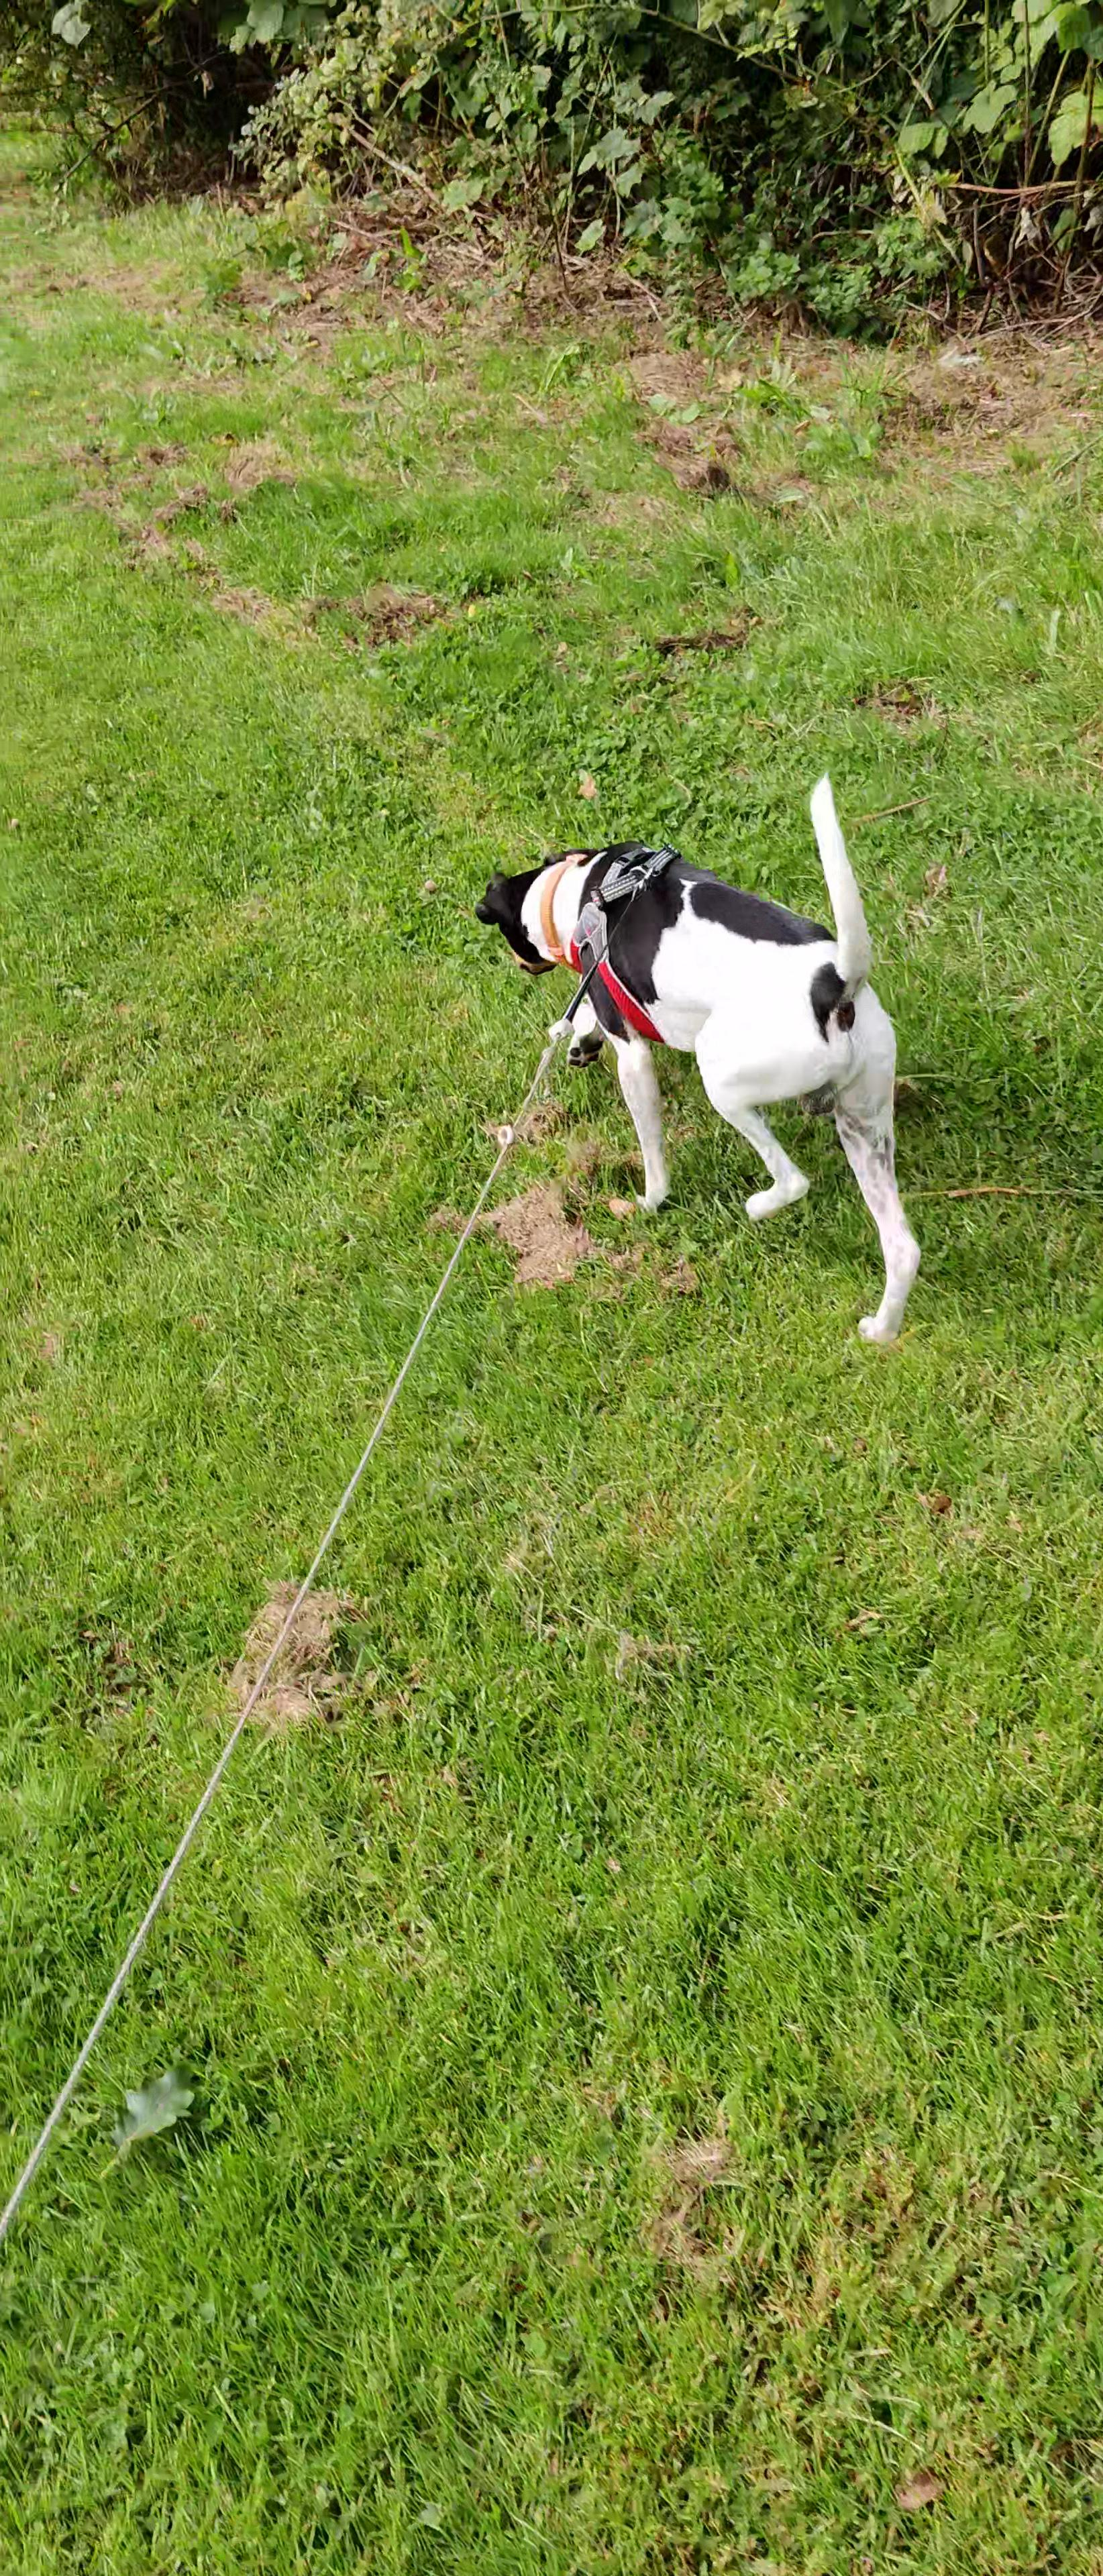Dog: (470, 764, 934, 1362)
